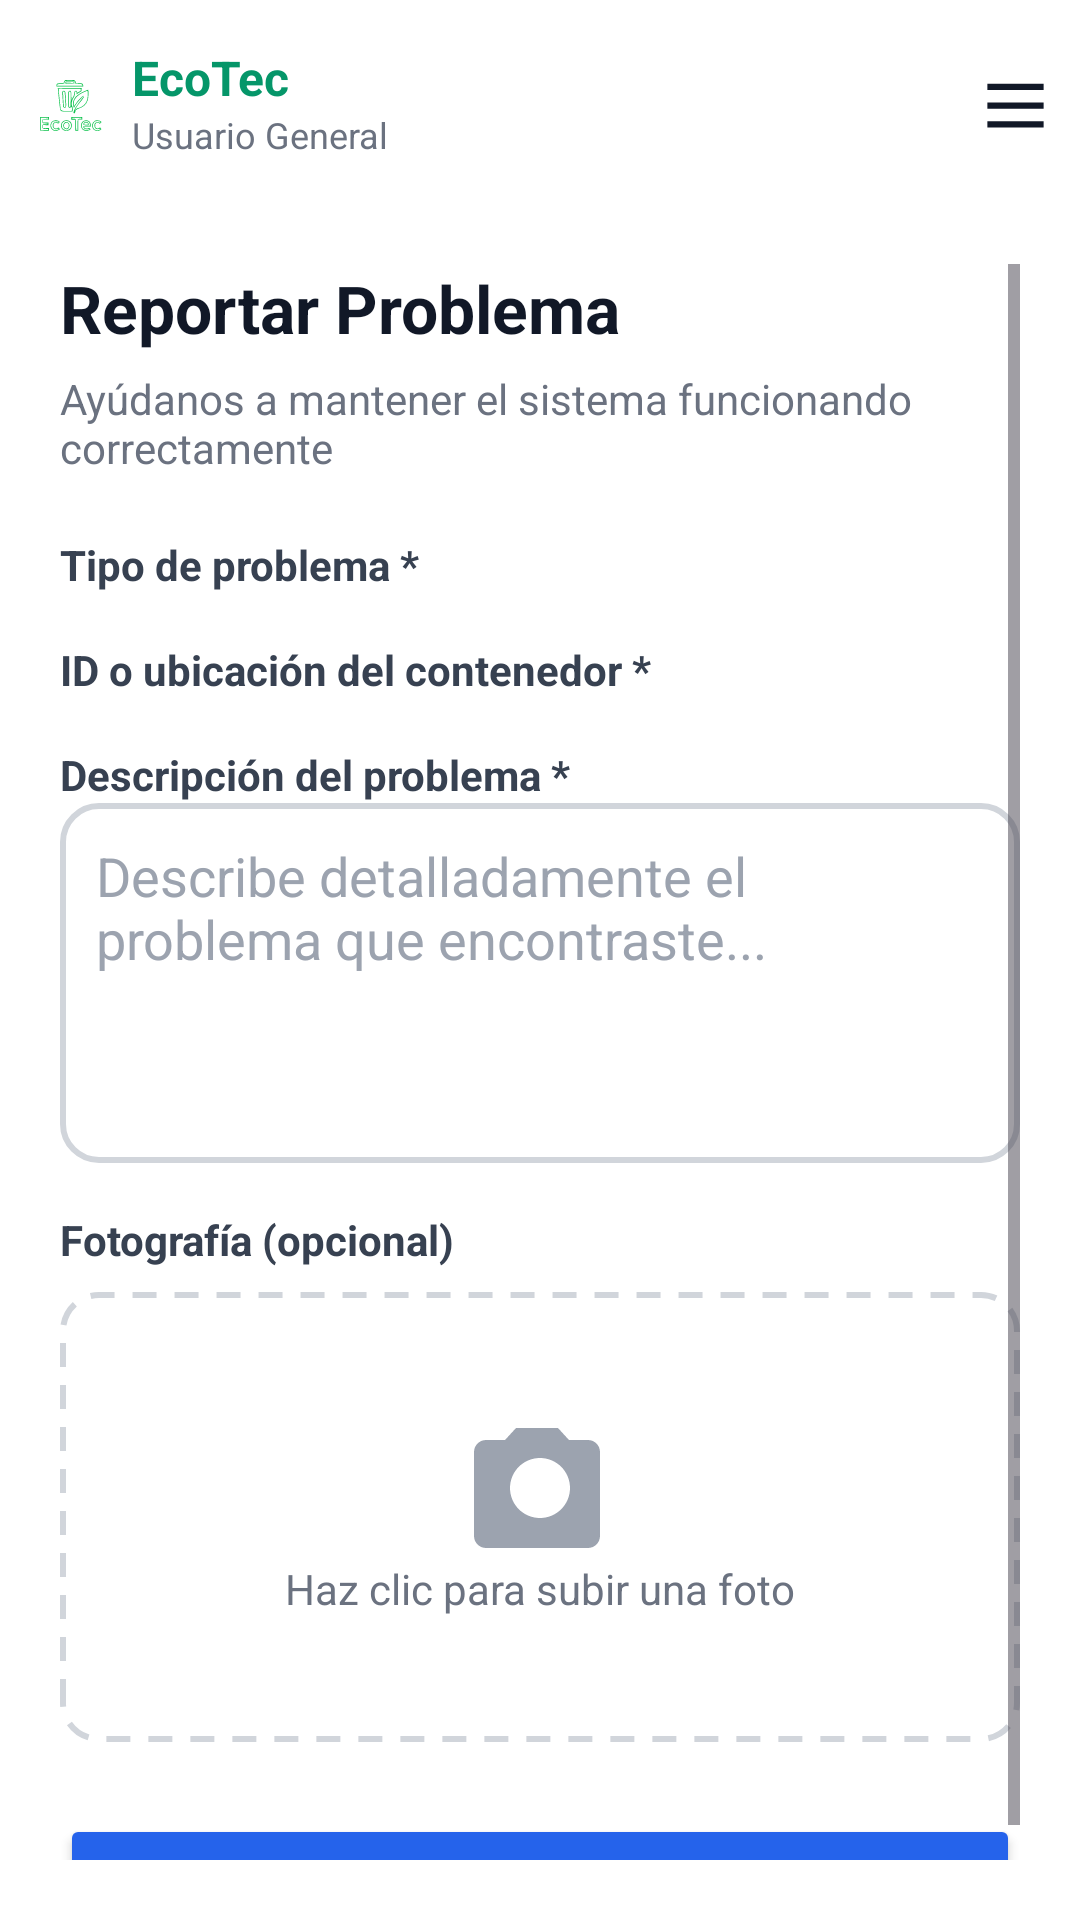

Icon bounding boxes for this 1080w x 1920h phone screenshot, format (x1, y1, x2, y2):
camera: (474, 1428, 600, 1548)
menu: (987, 83, 1044, 128)
